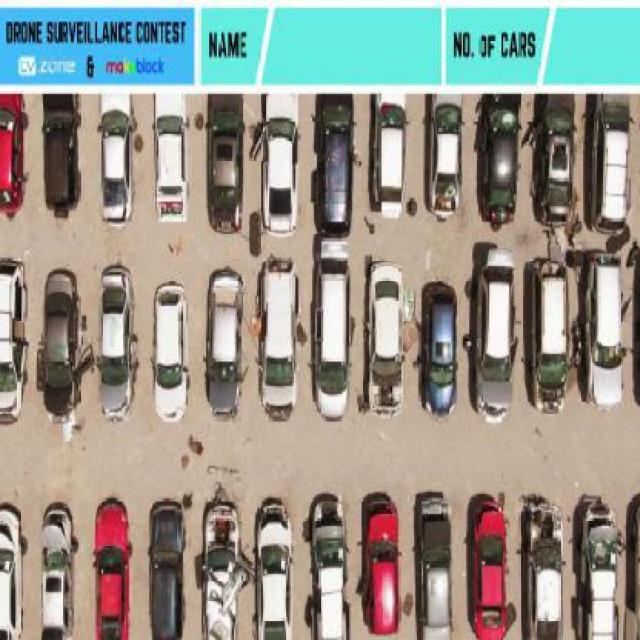car: (471, 248, 517, 428), (462, 490, 516, 640), (311, 231, 354, 419), (254, 257, 300, 418), (529, 249, 572, 417), (362, 255, 406, 418), (355, 489, 403, 638), (200, 266, 247, 418), (586, 250, 629, 414), (97, 260, 140, 420), (39, 268, 81, 430), (572, 496, 619, 640), (90, 493, 136, 640), (309, 490, 353, 640), (474, 92, 520, 229), (522, 497, 566, 640), (314, 89, 358, 230), (202, 91, 246, 232), (591, 91, 634, 234), (145, 495, 186, 640), (414, 488, 453, 640), (151, 281, 195, 415), (256, 495, 296, 640), (198, 495, 238, 640), (534, 93, 576, 228), (38, 500, 77, 640), (98, 95, 139, 228), (150, 90, 190, 225), (421, 279, 460, 417), (42, 92, 84, 218), (264, 94, 300, 237), (366, 93, 406, 221), (425, 93, 462, 218), (0, 254, 26, 426), (0, 95, 29, 214), (0, 503, 21, 640), (628, 493, 640, 640), (631, 249, 639, 411)
